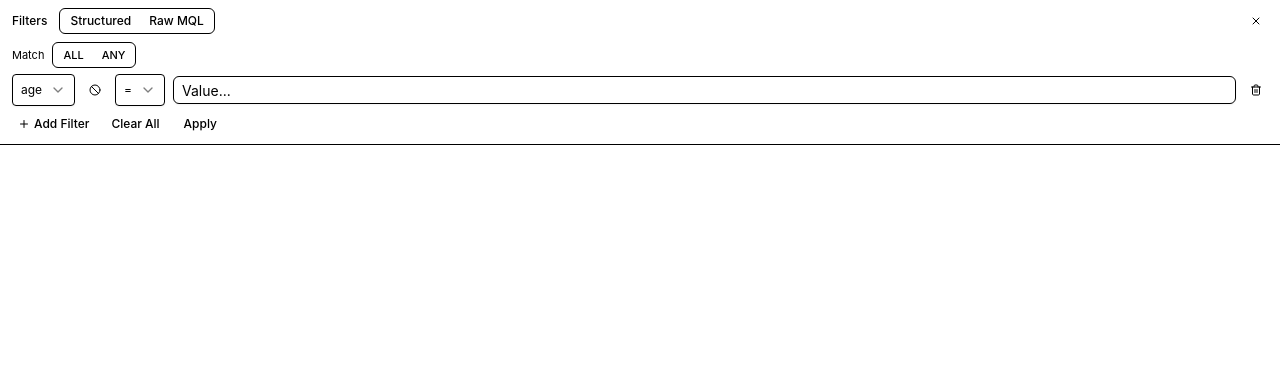
Test: DocumentFilterBar › exposes IN and NOT IN options in the operator dropdown
The image size is (1280, 382).
Click the dropdown named "Filter operator": (140, 90) [115,74,165,106]
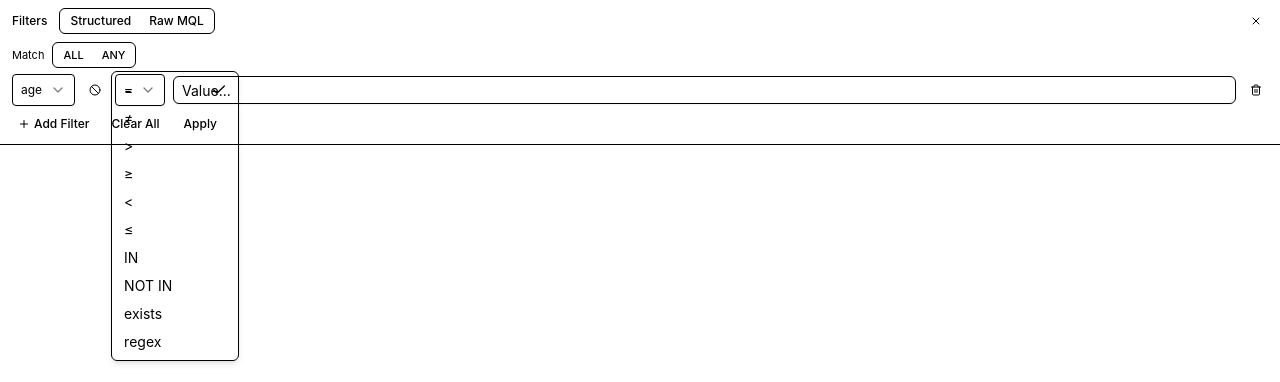
Check: the option "IN" is shown, box [124,249,138,266]
Check: the option "NOT IN" is shown, box [124,277,172,294]
